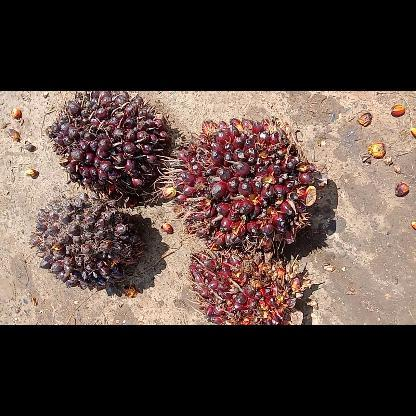Kurang masak: (152, 116, 324, 252), (45, 91, 171, 205), (30, 192, 144, 296), (187, 248, 311, 324)
